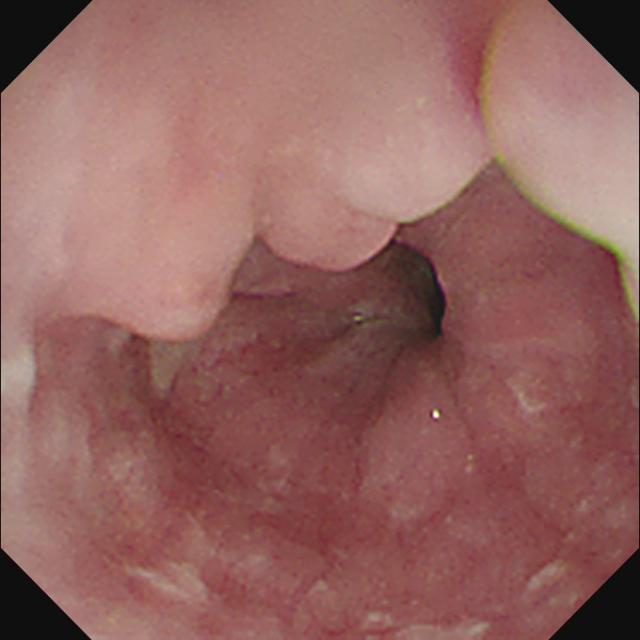A: (90, 233, 248, 350), (116, 368, 238, 476), (264, 191, 397, 279)
E: (415, 257, 460, 344)
J: (126, 508, 227, 611), (524, 557, 584, 608)
